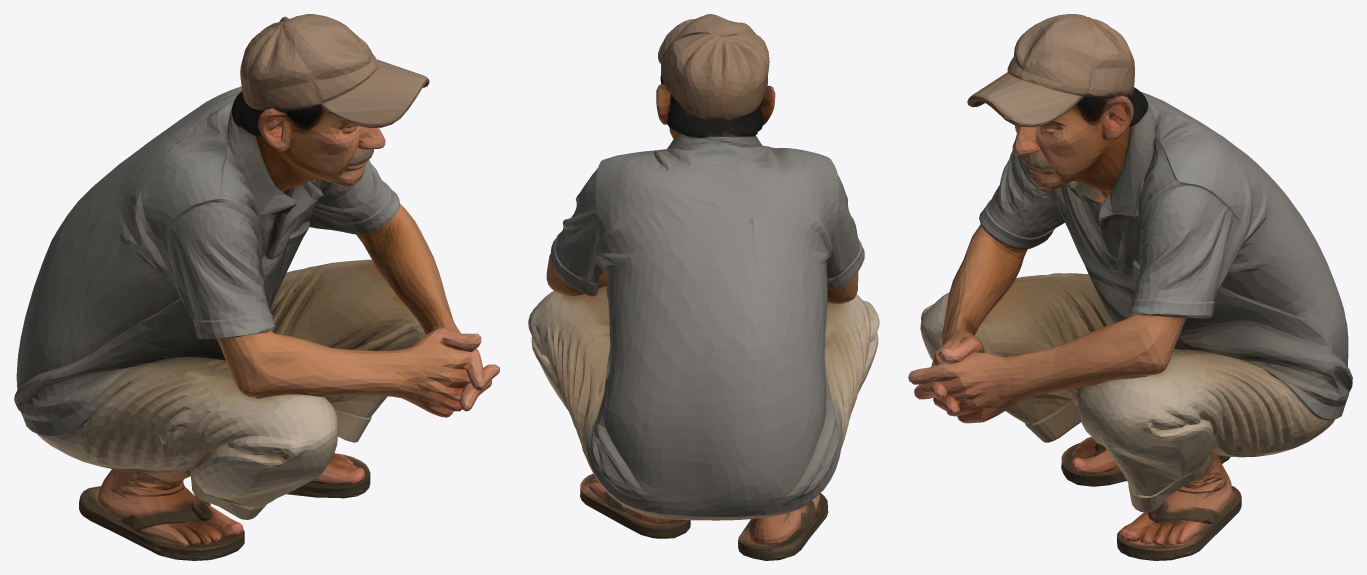
3 renders of one model, left to right at view 1: azimuth 30°, elevation 25°; view 2: azimuth 150°, elevation 25°; view 3: azimuth 270°, elevation 25°, orthographic. The views are drawn at different scales.
Parts seen in each view (by area): view 1: texture_pbr_v128; view 2: texture_pbr_v128; view 3: texture_pbr_v128.
Boxes of the visible parts, left/top/right/bottom form: texture_pbr_v128: left=14, top=14, right=499, bottom=560; texture_pbr_v128: left=528, top=14, right=879, bottom=560; texture_pbr_v128: left=908, top=14, right=1352, bottom=560.
Bounding box in the file's own units: 0.7703 × 1.02 × 0.8365.
1 material, 1 textured.
